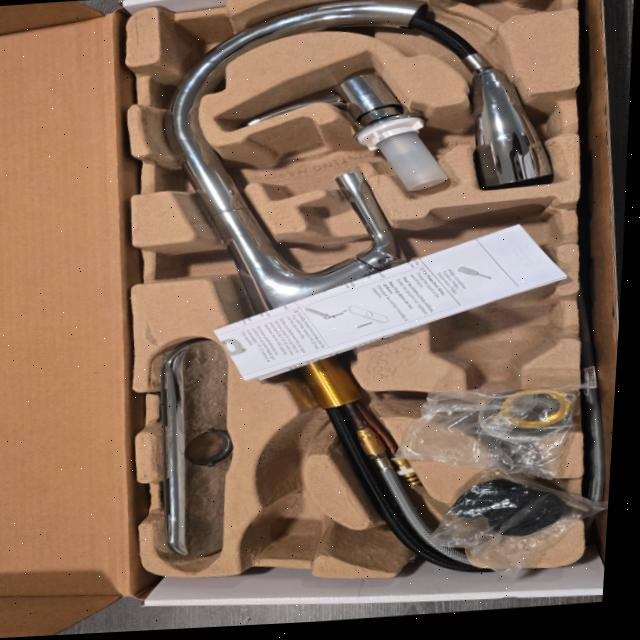1o: (160, 0, 551, 571)
2: (243, 71, 450, 191)
3m: (431, 198, 562, 394)
4: (159, 339, 231, 557)
5m: (252, 489, 328, 554)
6: (389, 383, 590, 483)
7o: (432, 456, 608, 579)
8: (210, 223, 568, 383)
